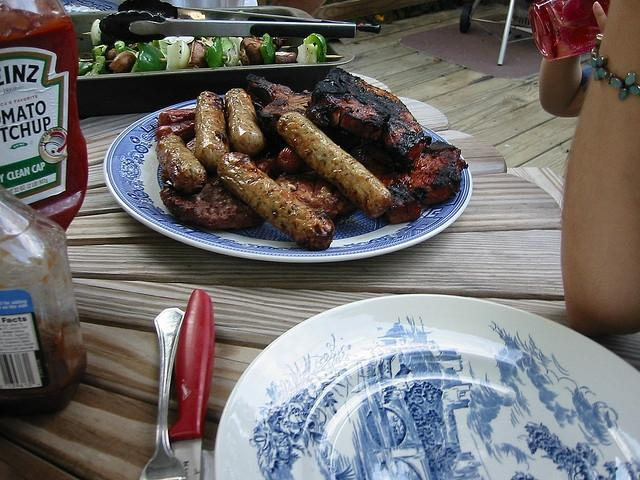onion: (158, 40, 190, 70), (296, 44, 318, 63), (223, 44, 239, 66), (90, 18, 102, 46), (229, 37, 243, 51)
